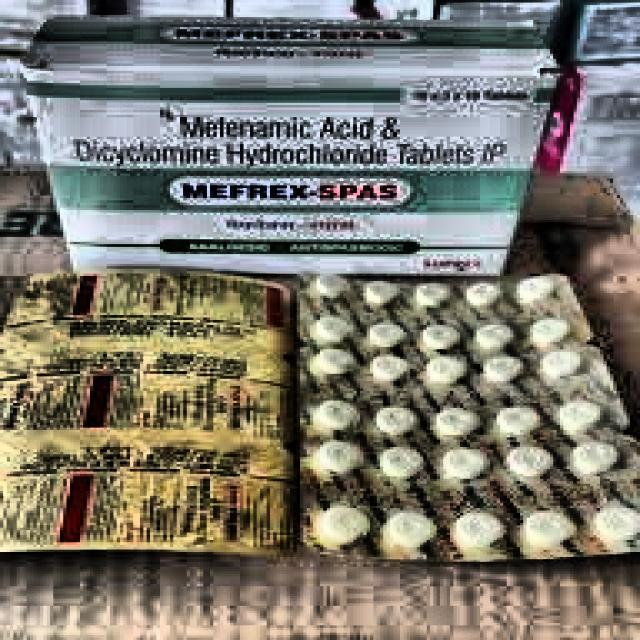Meftal: (164, 171, 425, 229)
